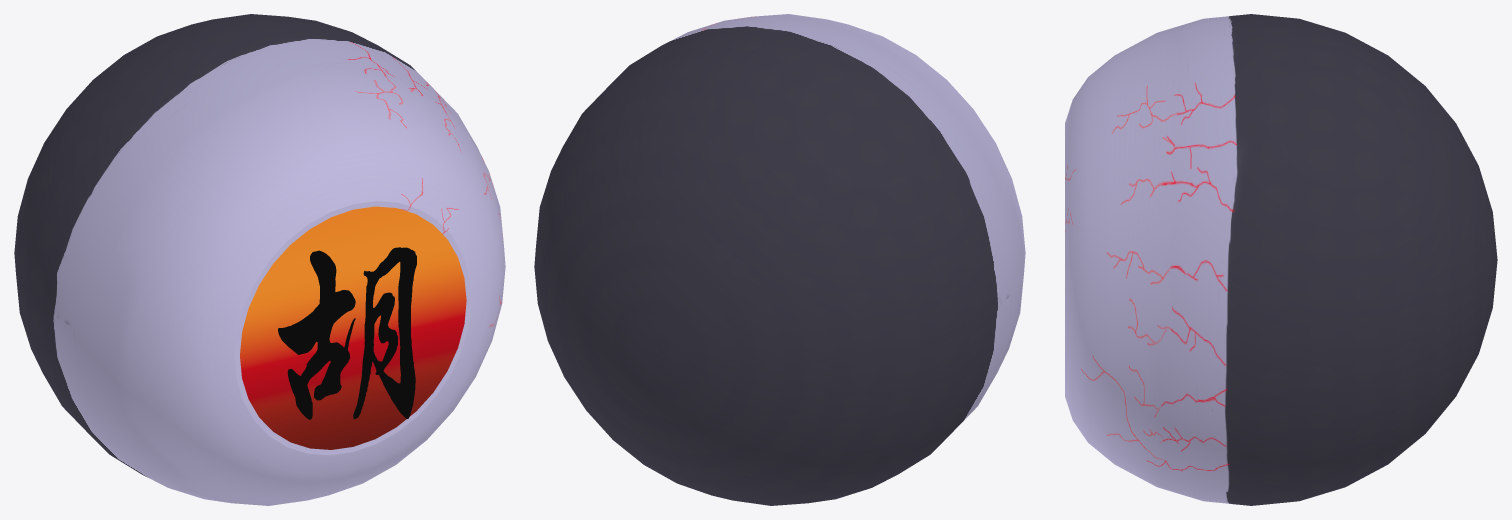
The picture shows the model from 3 angles, left to right: view 1: azimuth 30°, elevation 25°; view 2: azimuth 150°, elevation 25°; view 3: azimuth 270°, elevation 25°; orthographic projection.
Visible parts, largest first — view 1: Sphere, Circle, Plane; view 2: Sphere; view 3: Sphere.
Part boxes in pixels (x1,y1,x2,y2): Sphere: [14, 14, 505, 505]; Circle: [240, 206, 466, 449]; Plane: [278, 247, 416, 419]; Sphere: [534, 14, 1025, 505]; Sphere: [1065, 14, 1497, 505].
Bounding box in the file's own units: 2 × 2 × 1.8.
3 materials, 3 textured.
